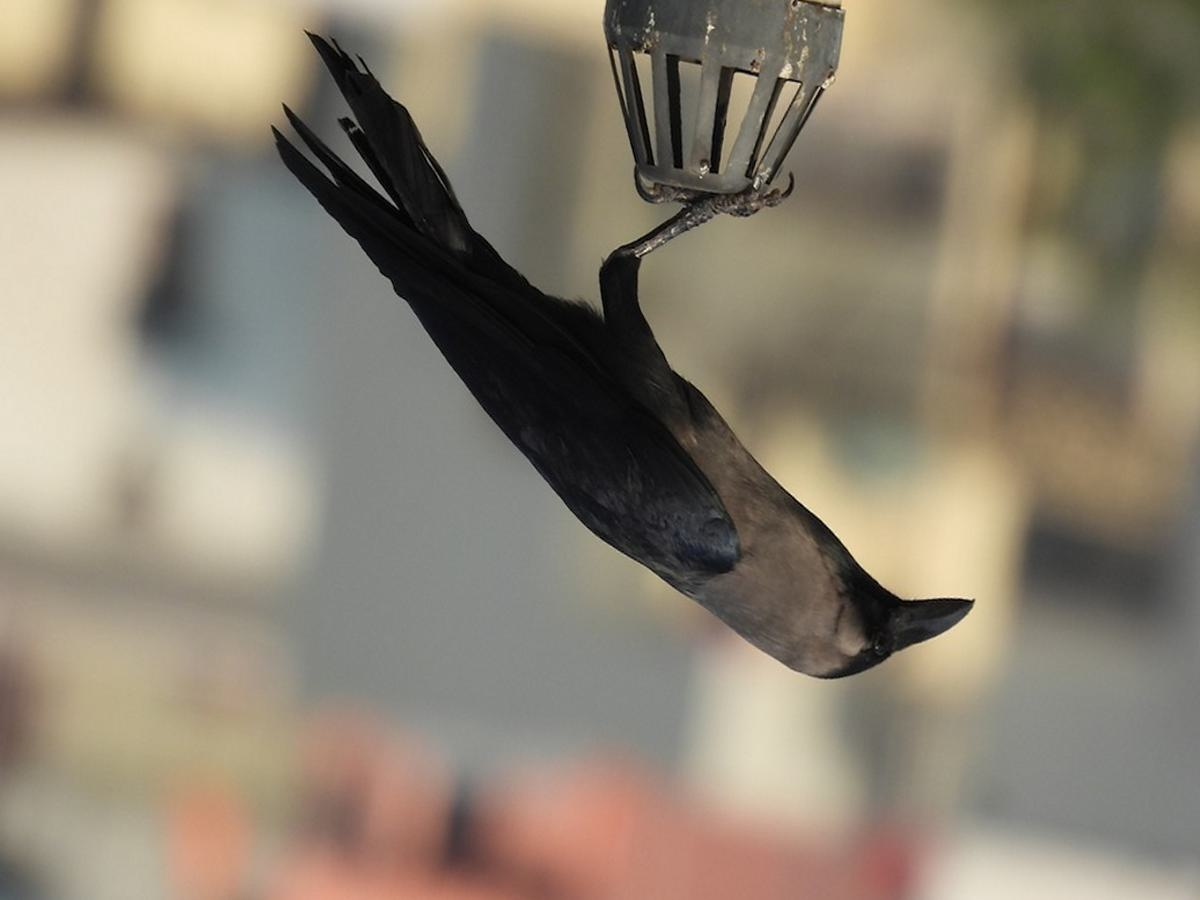crow: (224, 50, 989, 687)
